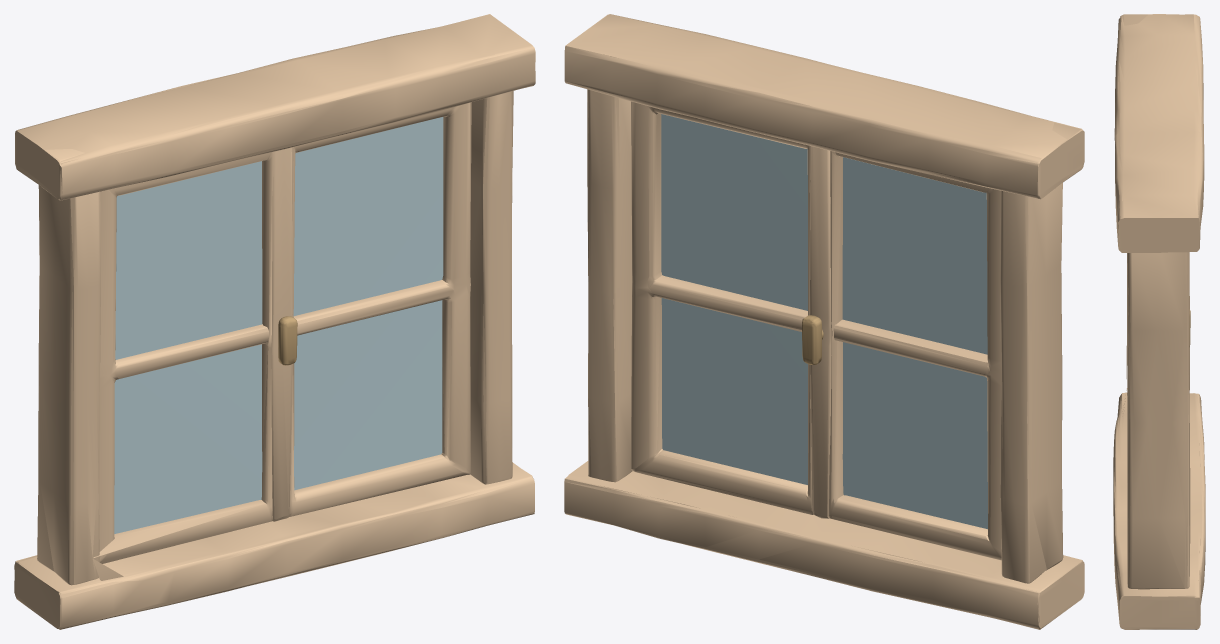
The model's file is wooden_window.glb.
3 views of the same model, side by side, from view 1: azimuth 30°, elevation 25°; view 2: azimuth 150°, elevation 25°; view 3: azimuth 270°, elevation 25° (orthographic). The views are drawn at different scales.
Size of the model in its own units: 1.75 by 1.66 by 0.3367.
